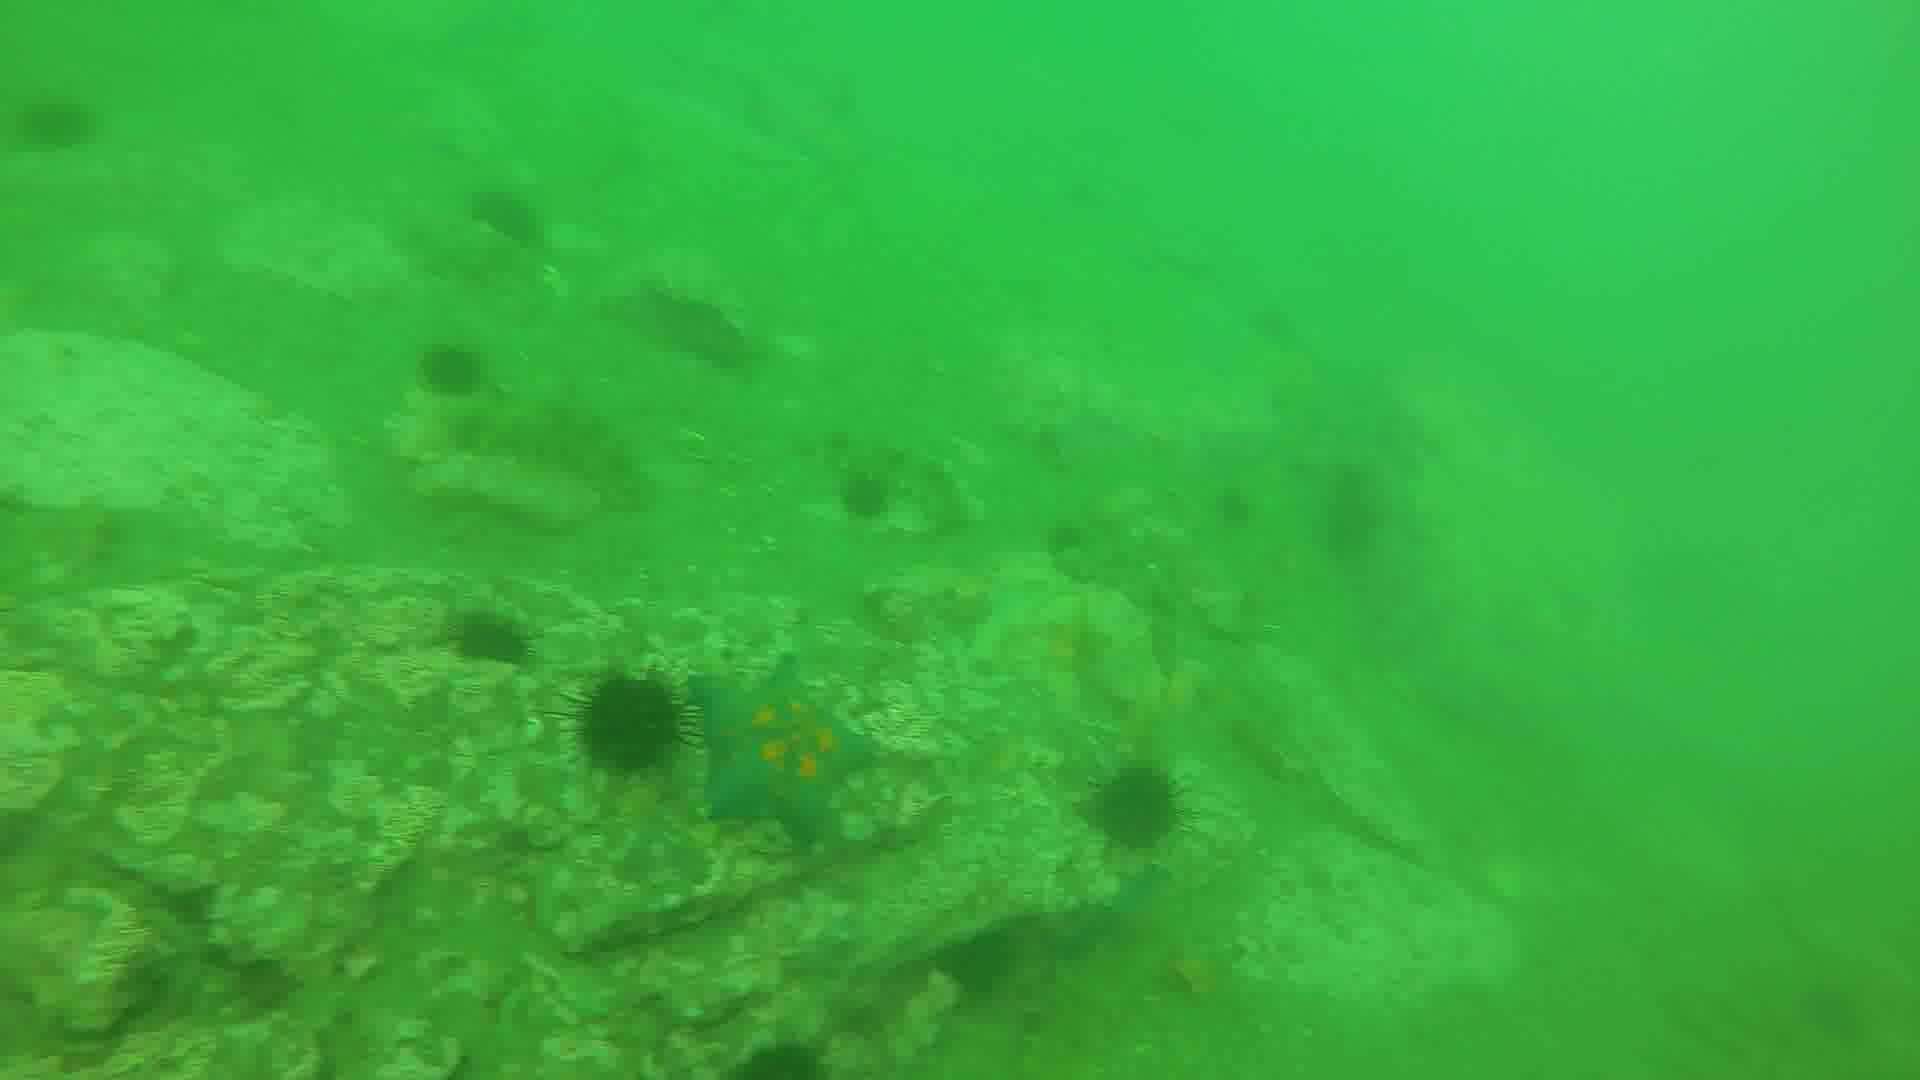echinus: (578, 671, 687, 770), (1081, 762, 1187, 847), (735, 1036, 814, 1080), (421, 340, 487, 389), (479, 189, 535, 237)
starfish: (692, 654, 868, 851)
